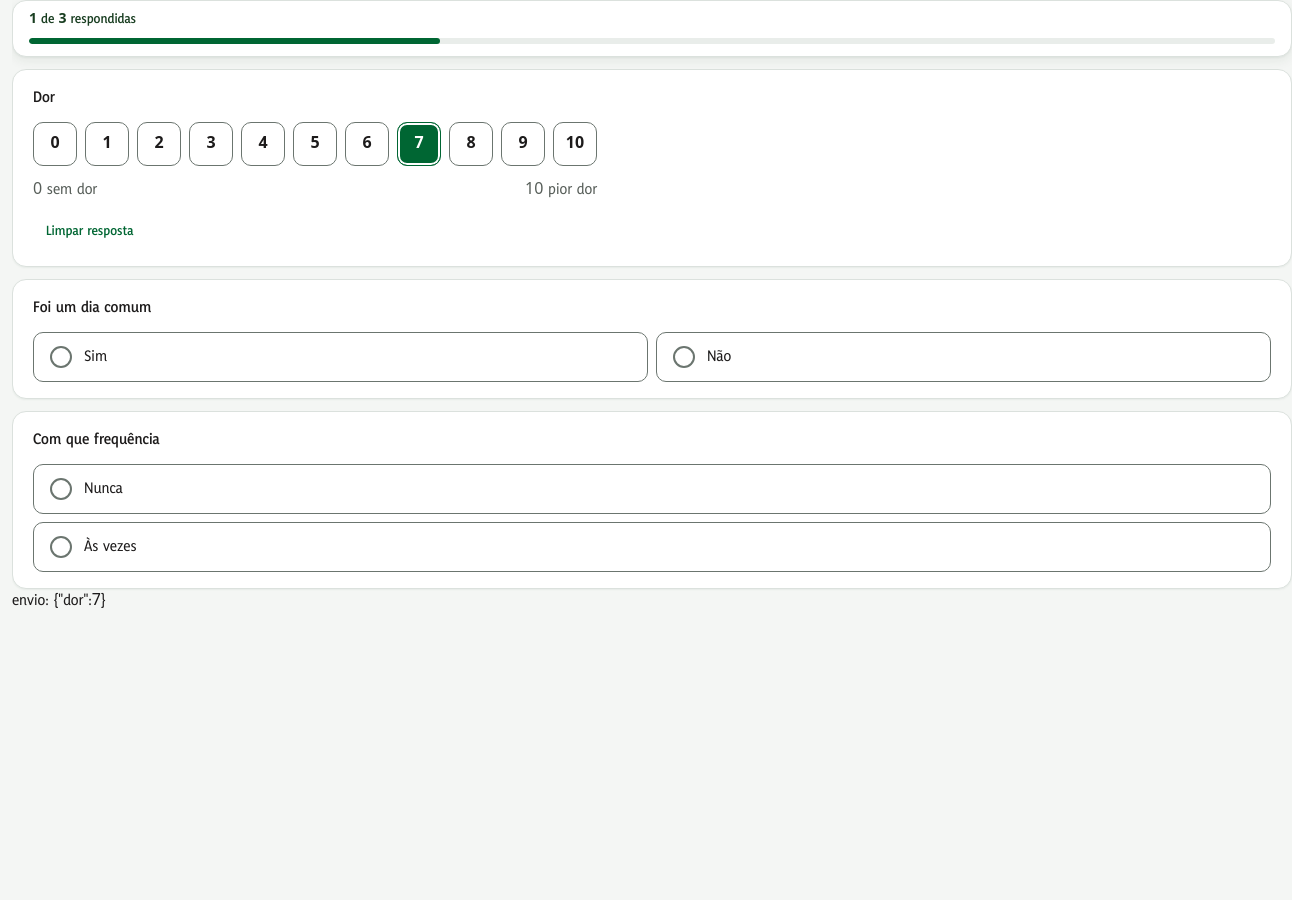
Test: ScaleForm com o contador de respondidas › conta as respostas e o item limpo deixa de contar
The image size is (1292, 900).
Check: the message reads "1 de 3 respondidas", box top-left (29, 10), bottom-right (136, 28)
Click the radio button labelled "Às vezes". click: x=652, y=547
box: top-left (33, 522), bottom-right (1271, 572)
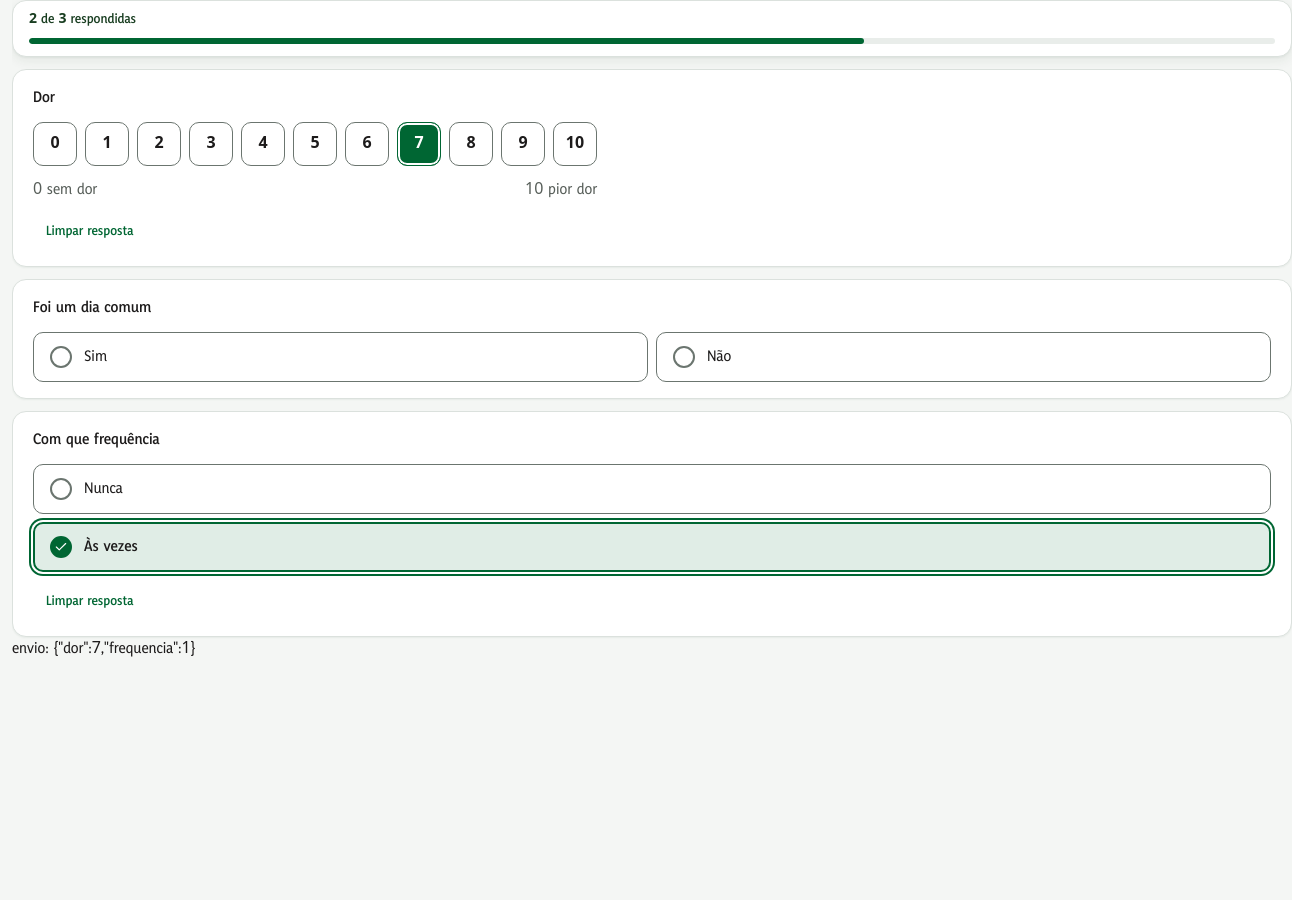
Check: the message reads "2 de 3 respondidas", box top-left (29, 10), bottom-right (136, 28)
Click the button with aria-label "Limpar resposta de Dor". click: x=90, y=232
box: top-left (33, 214), bottom-right (146, 250)
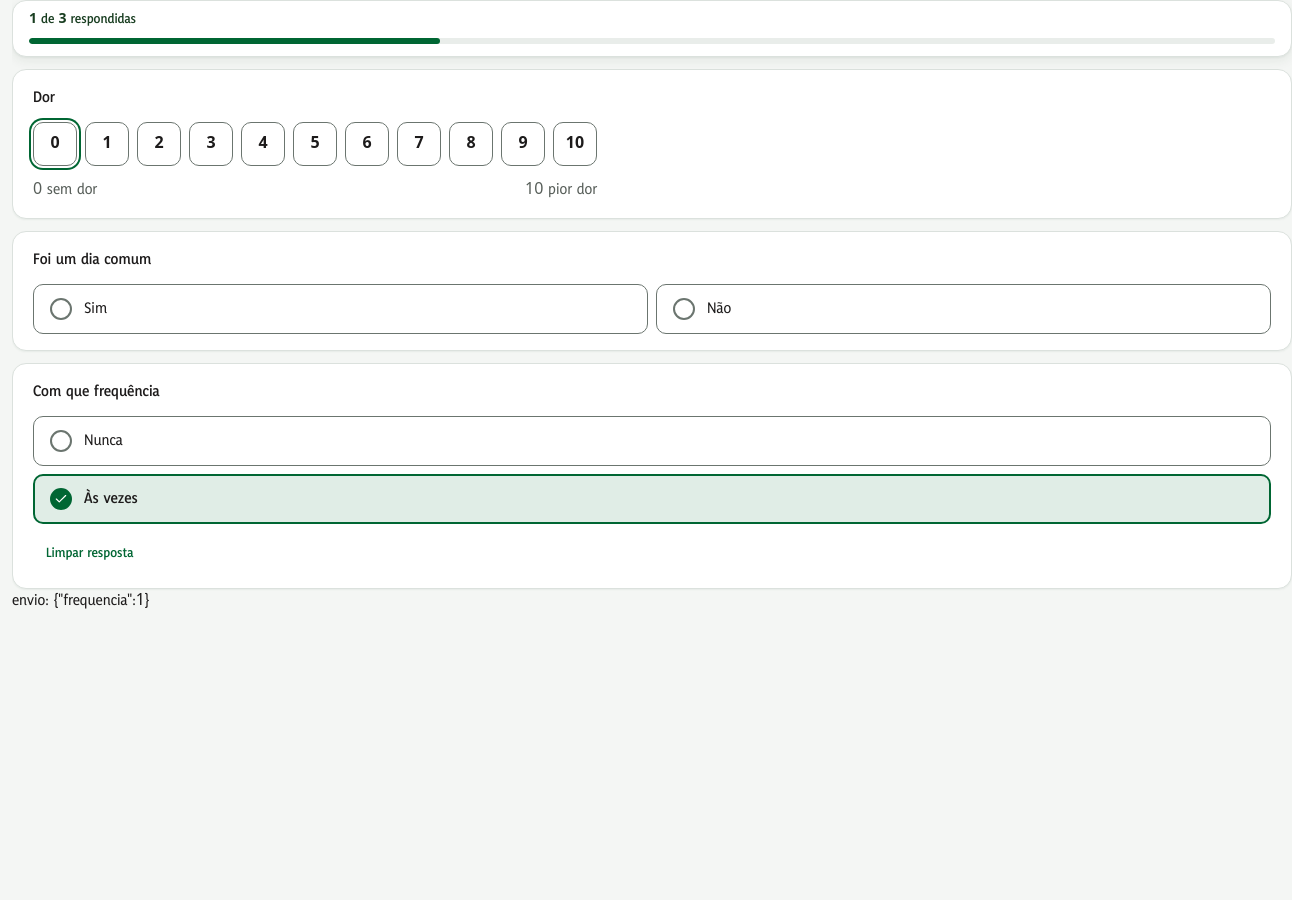
Check: the message reads "1 de 3 respondidas", box top-left (29, 10), bottom-right (136, 28)
